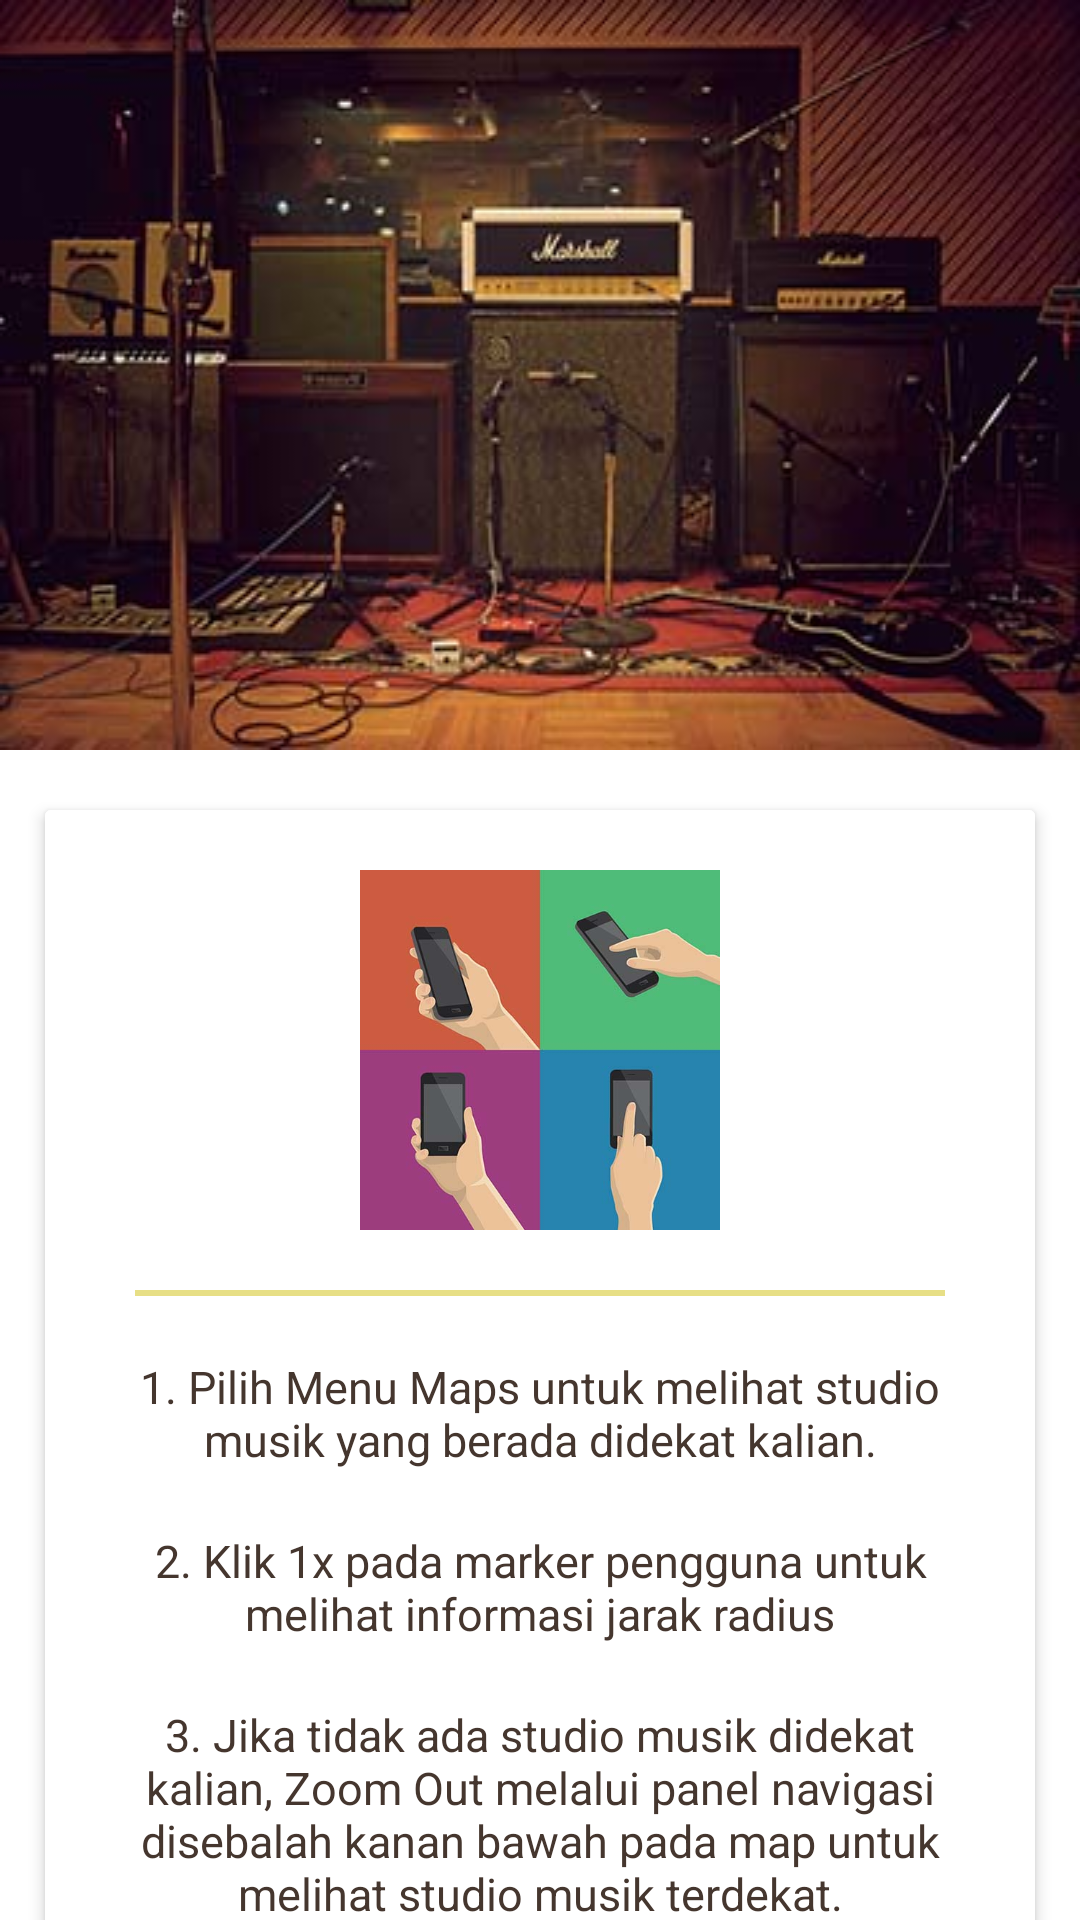

Named icons in this screenshot (1080px x 1920px) and their centers, point (x, y):
howtouse: point (540, 1050)
